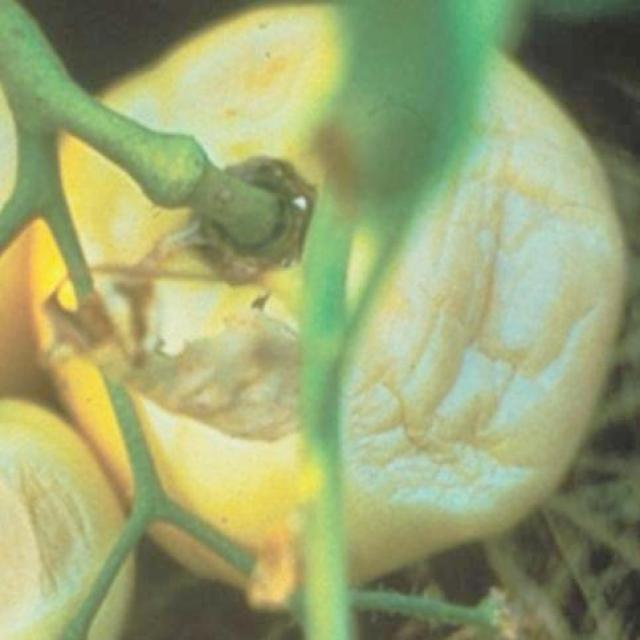Sunscald Fruit: (183, 42, 407, 358)
